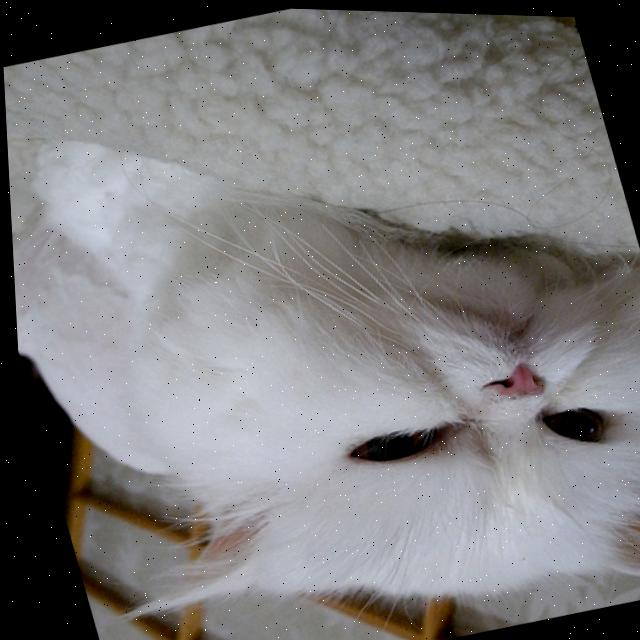Persian: (1, 14, 640, 640)
